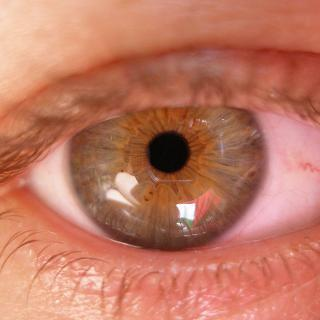iris: (68, 52, 269, 253)
